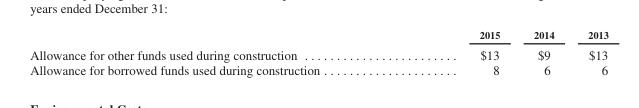table: (29, 28, 607, 77)
table column: (29, 28, 399, 77), (399, 28, 516, 77), (516, 28, 570, 77), (570, 28, 607, 77)
table column header: (29, 28, 607, 43)
table row: (29, 43, 607, 62), (29, 28, 607, 43), (29, 62, 607, 77)
